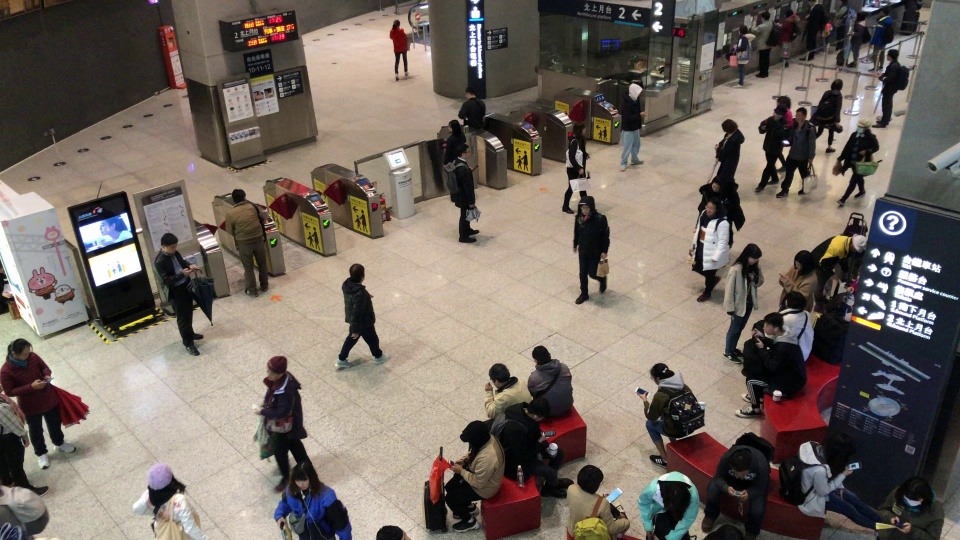person_head: (147, 461, 184, 502), (898, 475, 932, 511), (825, 432, 856, 463), (460, 420, 490, 447), (576, 464, 603, 494), (289, 459, 315, 490), (665, 485, 691, 511), (727, 449, 751, 477), (527, 397, 551, 421), (375, 525, 412, 540), (6, 338, 31, 360), (488, 363, 510, 388), (649, 363, 675, 384), (762, 311, 784, 335), (739, 243, 763, 265), (266, 355, 287, 380), (793, 249, 814, 272), (784, 290, 807, 310), (716, 524, 743, 540), (160, 233, 178, 254), (531, 345, 552, 363), (577, 195, 595, 215), (228, 188, 250, 204), (348, 263, 365, 283), (850, 233, 866, 253), (704, 198, 720, 216), (720, 118, 738, 133), (628, 83, 643, 101), (710, 175, 725, 192), (855, 117, 870, 133), (776, 94, 791, 109), (456, 143, 470, 159), (572, 121, 587, 135), (772, 104, 787, 118), (446, 119, 460, 133), (794, 107, 807, 122), (886, 48, 899, 62), (830, 78, 843, 91), (464, 86, 477, 97), (759, 11, 770, 22), (737, 24, 748, 35), (854, 11, 866, 21), (783, 7, 793, 18), (879, 6, 889, 15), (392, 19, 400, 26), (808, 0, 818, 5), (840, 0, 848, 5)
person_vbox: (0, 337, 77, 469), (777, 432, 880, 530), (489, 397, 575, 498), (700, 432, 775, 540), (734, 312, 808, 418), (251, 356, 308, 493), (636, 362, 705, 470), (443, 419, 505, 533), (152, 232, 204, 356), (221, 188, 279, 298), (273, 460, 352, 540), (130, 461, 209, 540), (333, 263, 391, 368), (0, 384, 50, 497), (721, 243, 764, 364), (687, 199, 734, 303), (566, 464, 630, 540), (877, 476, 945, 540), (636, 471, 699, 540), (572, 195, 611, 305), (810, 233, 866, 306), (692, 174, 745, 249), (836, 117, 880, 207), (442, 143, 480, 243), (775, 107, 817, 196), (526, 345, 573, 420), (872, 48, 909, 128), (754, 105, 788, 192), (561, 121, 591, 214), (484, 362, 532, 419), (777, 290, 814, 363), (808, 78, 843, 154), (0, 485, 49, 539), (778, 250, 817, 312), (619, 82, 644, 172), (750, 10, 781, 78), (714, 118, 745, 184), (442, 118, 466, 203), (868, 5, 895, 72), (799, 0, 826, 60), (772, 95, 793, 171), (775, 7, 800, 69), (732, 24, 755, 89), (846, 11, 870, 68), (389, 19, 410, 81), (831, 0, 856, 52), (457, 87, 486, 130), (899, 0, 924, 37)
